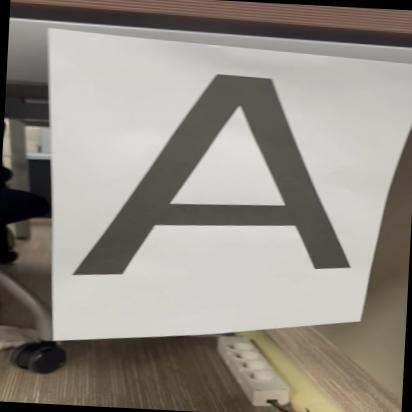seat: (69, 56, 368, 296)
